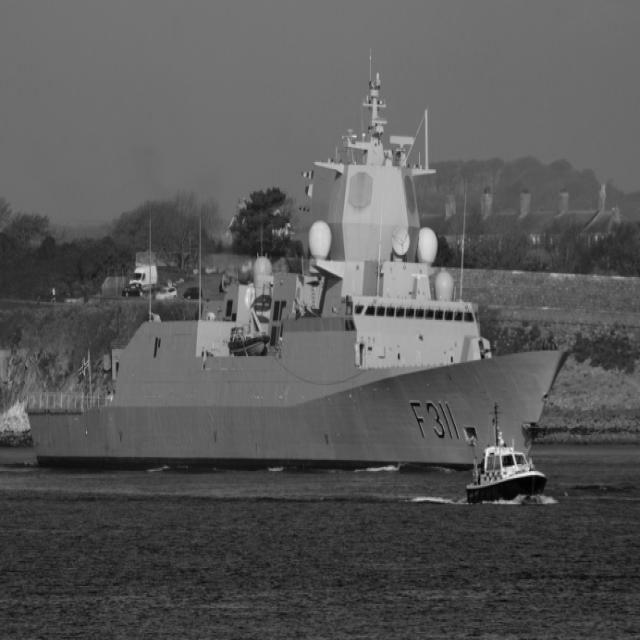Fragata: (24, 69, 581, 479)
